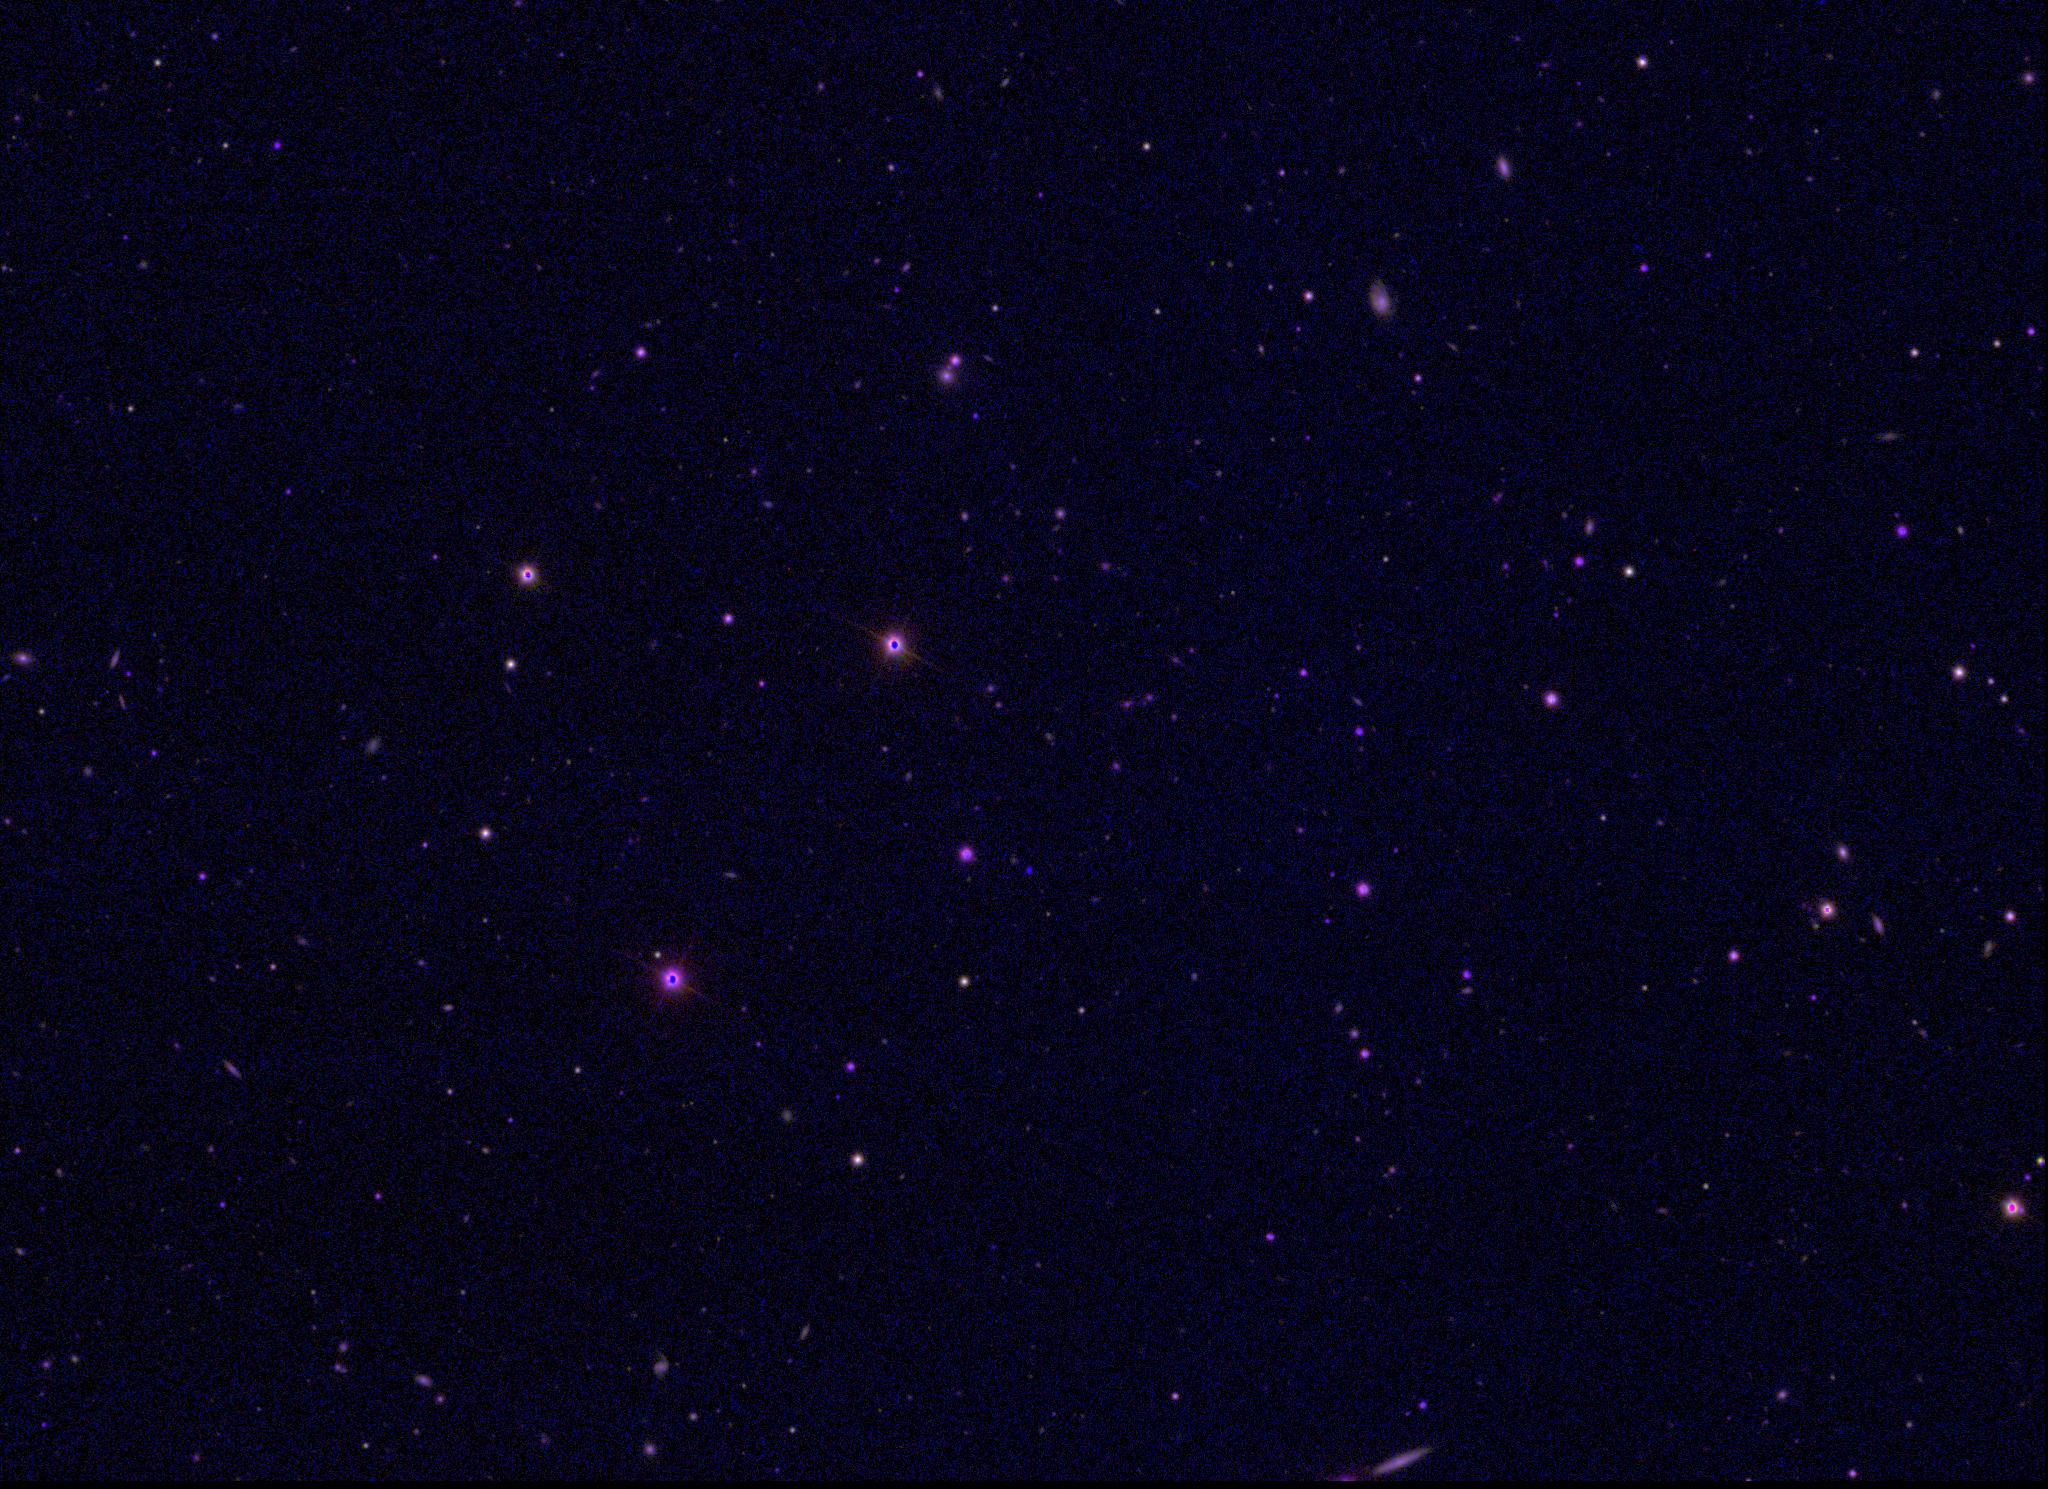L: (1022, 864, 1037, 878)
